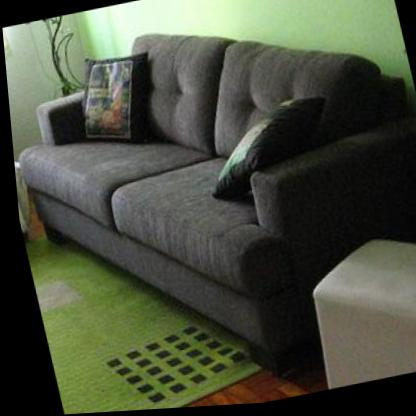Sofa: (0, 0, 416, 411)
